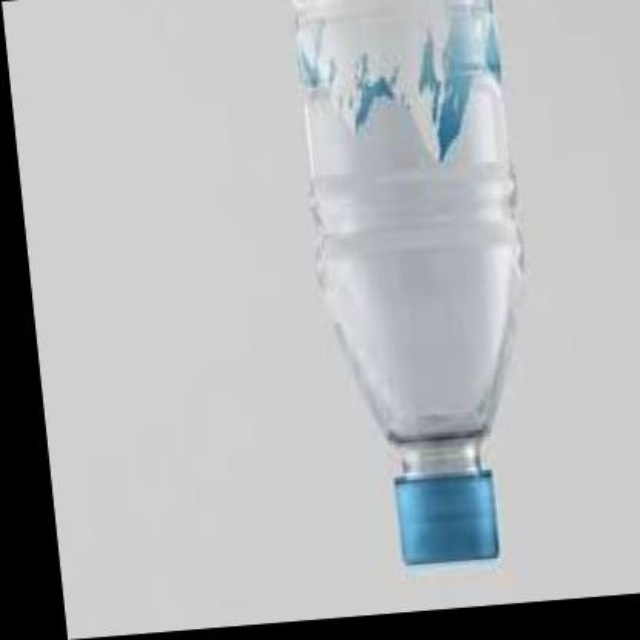trash: (294, 0, 520, 562)
